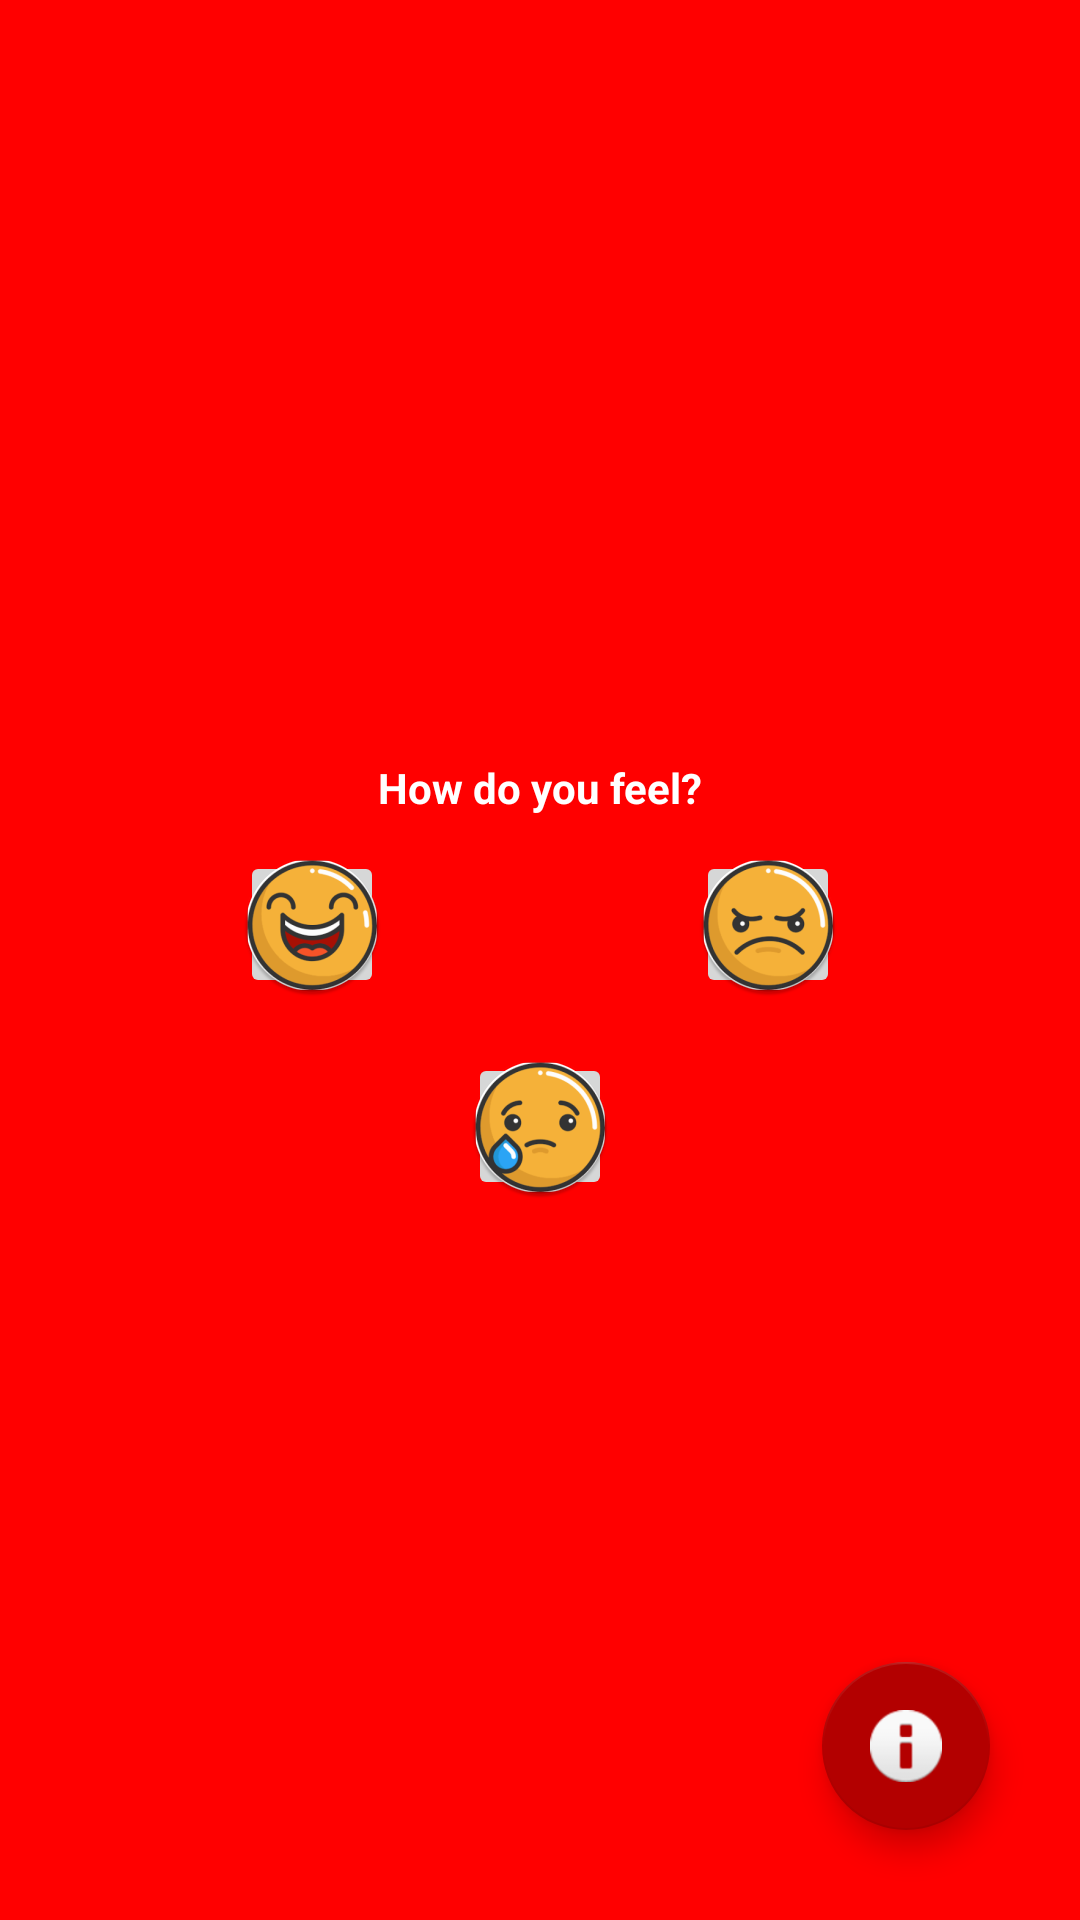

Icons on this 1080w x 1920h Android screen, each with the point to tap as (x,y):
angry: (768,927)
happy: (312,927)
info: (906,1746)
sad: (540,1129)
